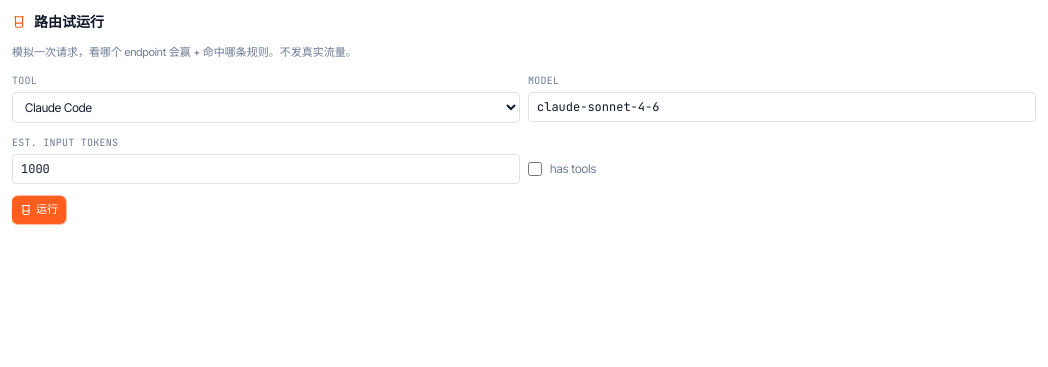
Test: RouterDryRunPanel › renders the picked endpoint + rule + cascade chain after run
This screenshot has width=1048, height=367.
Click the button "运行" at coordinates (39, 210), box [12, 196, 66, 224]
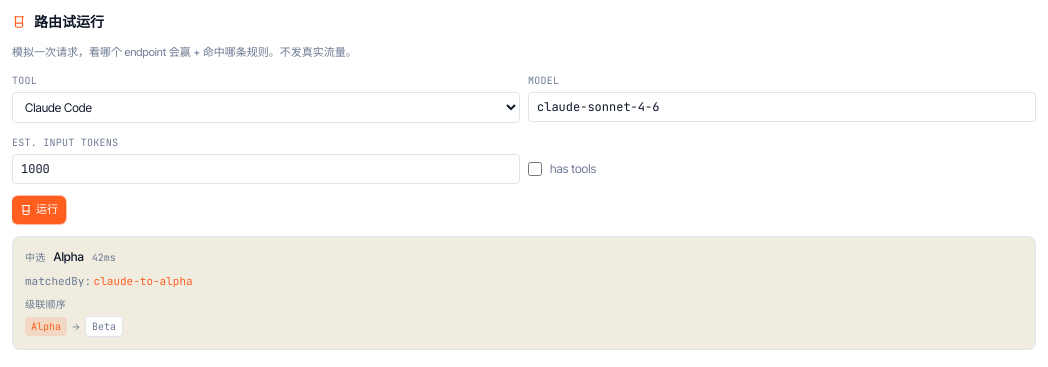
Now the element with test id "dry-run-result" is shown, box [12, 236, 1036, 350]
Now the element with test id "dry-run-result" shows "Alpha", box [54, 248, 84, 264]
Now the element with test id "dry-run-result" shows "claude-to-alpha", box [94, 274, 193, 288]
